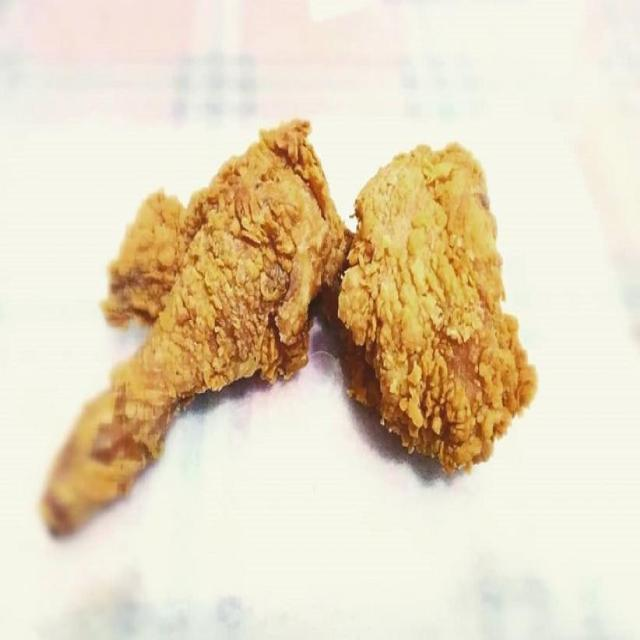Frango: (29, 115, 341, 533), (328, 97, 542, 496)
